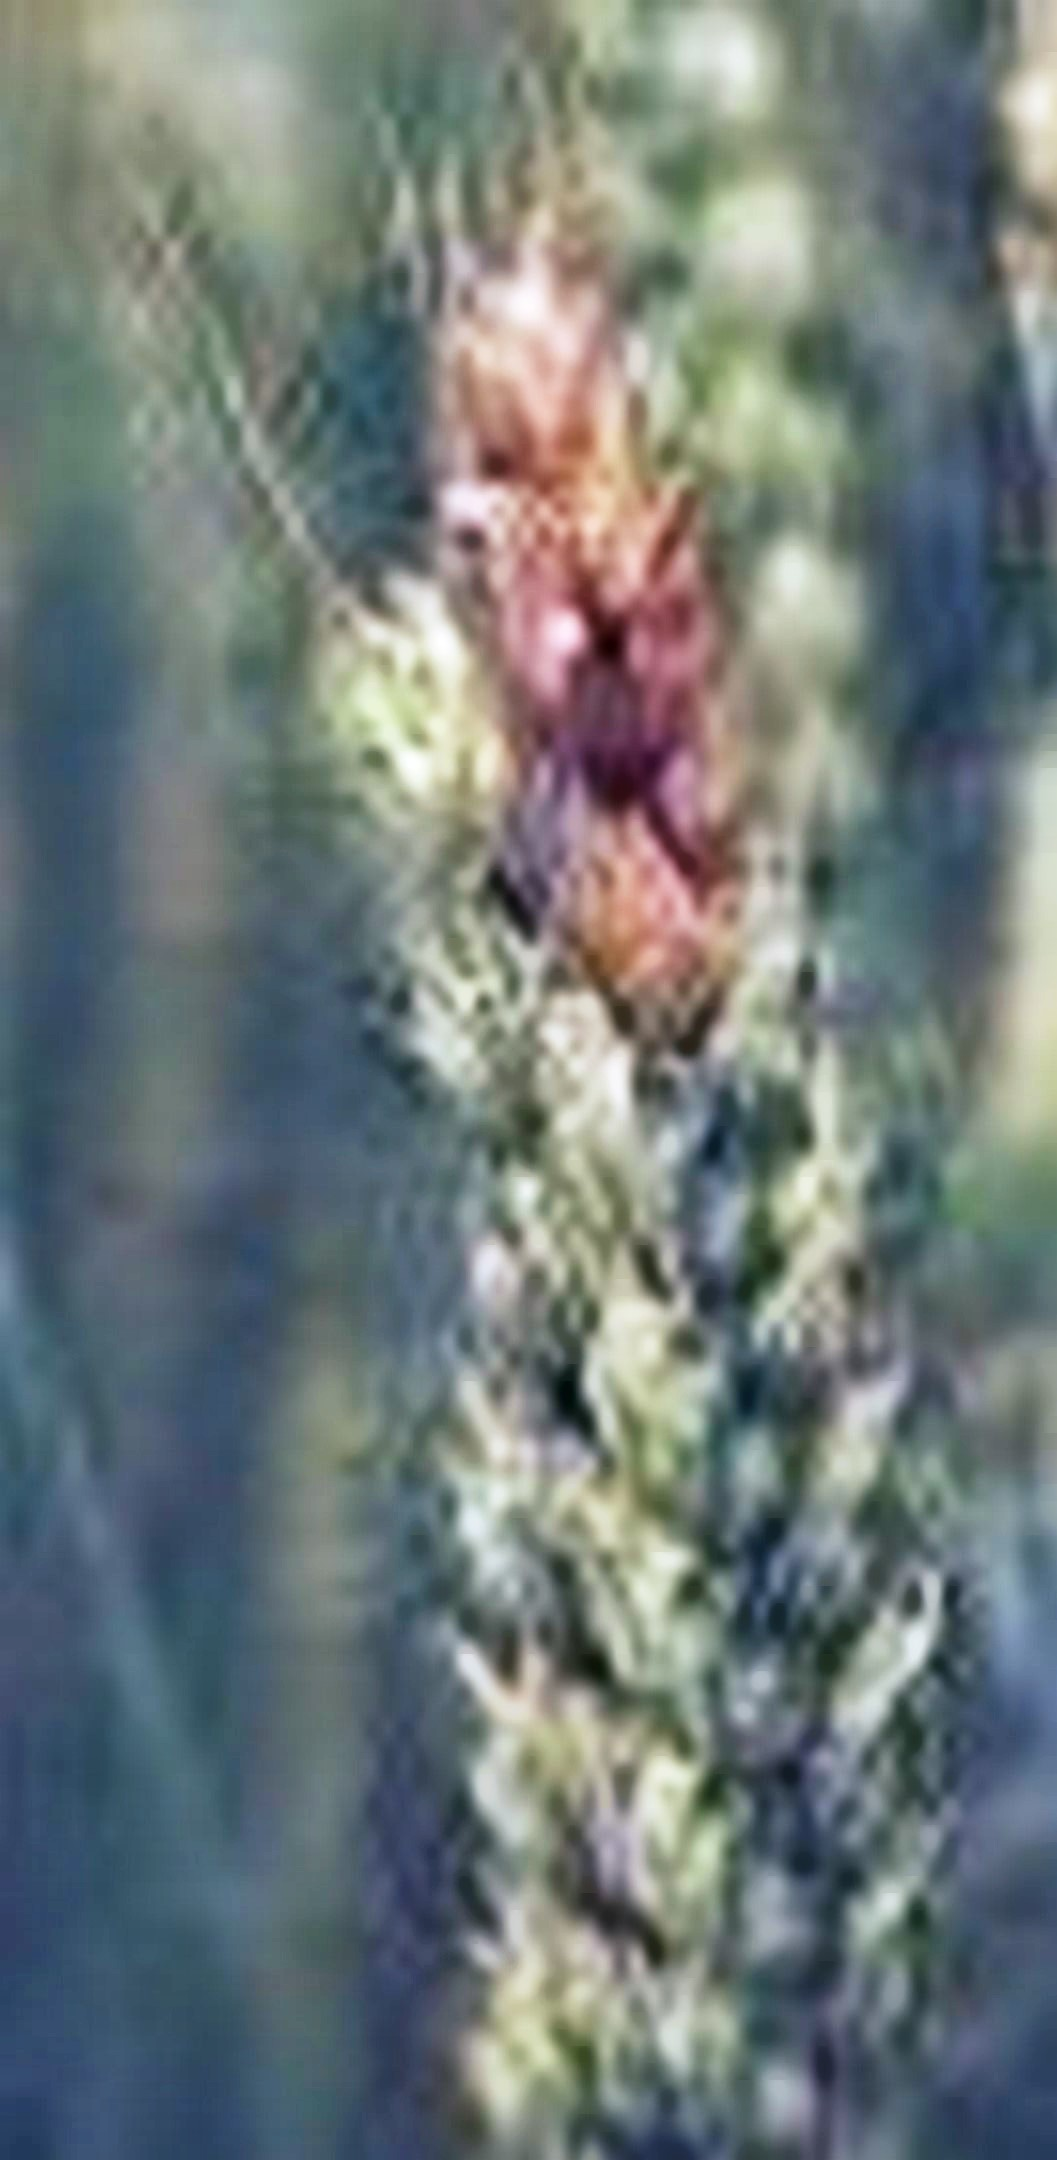Wheat scab: (434, 269, 938, 2104)
